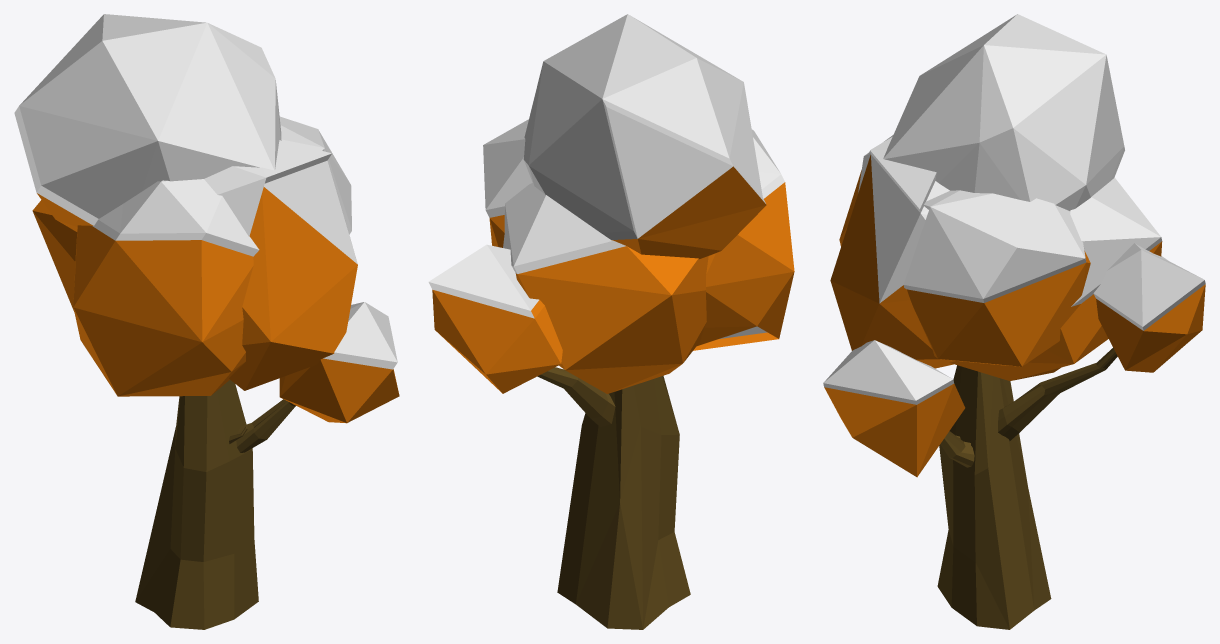
File: Tree#7_Snow.fbx
3 renders of one model, left to right at view 1: azimuth 30°, elevation 25°; view 2: azimuth 150°, elevation 25°; view 3: azimuth 270°, elevation 25°, orthographic. The views are drawn at different scales.
Parts seen in each view (by area): view 1: Tree#7_Snow; view 2: Tree#7_Snow; view 3: Tree#7_Snow.
Part boxes in pixels (x1=…): Tree#7_Snow: x1=14, y1=14, x2=399, y2=629; Tree#7_Snow: x1=428, y1=14, x2=794, y2=629; Tree#7_Snow: x1=823, y1=14, x2=1205, y2=629.
Bounding box in the file's own units: 1238 × 2318 × 1433.
